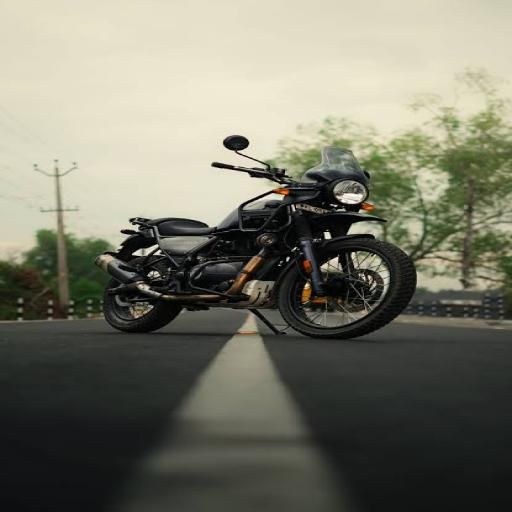bike-detection: (82, 106, 455, 351)
